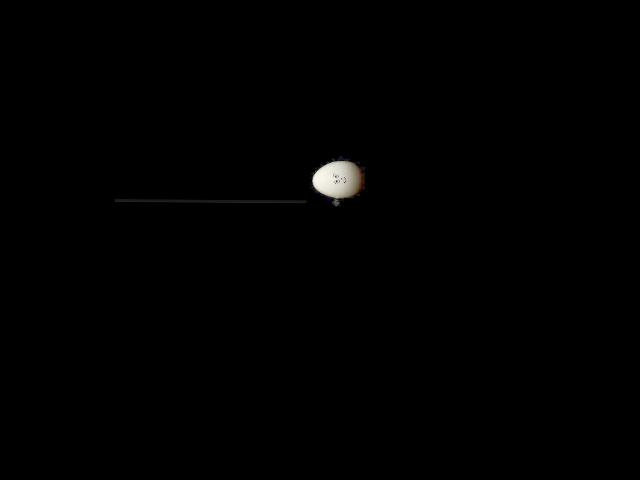egg: (312, 160, 361, 197)
